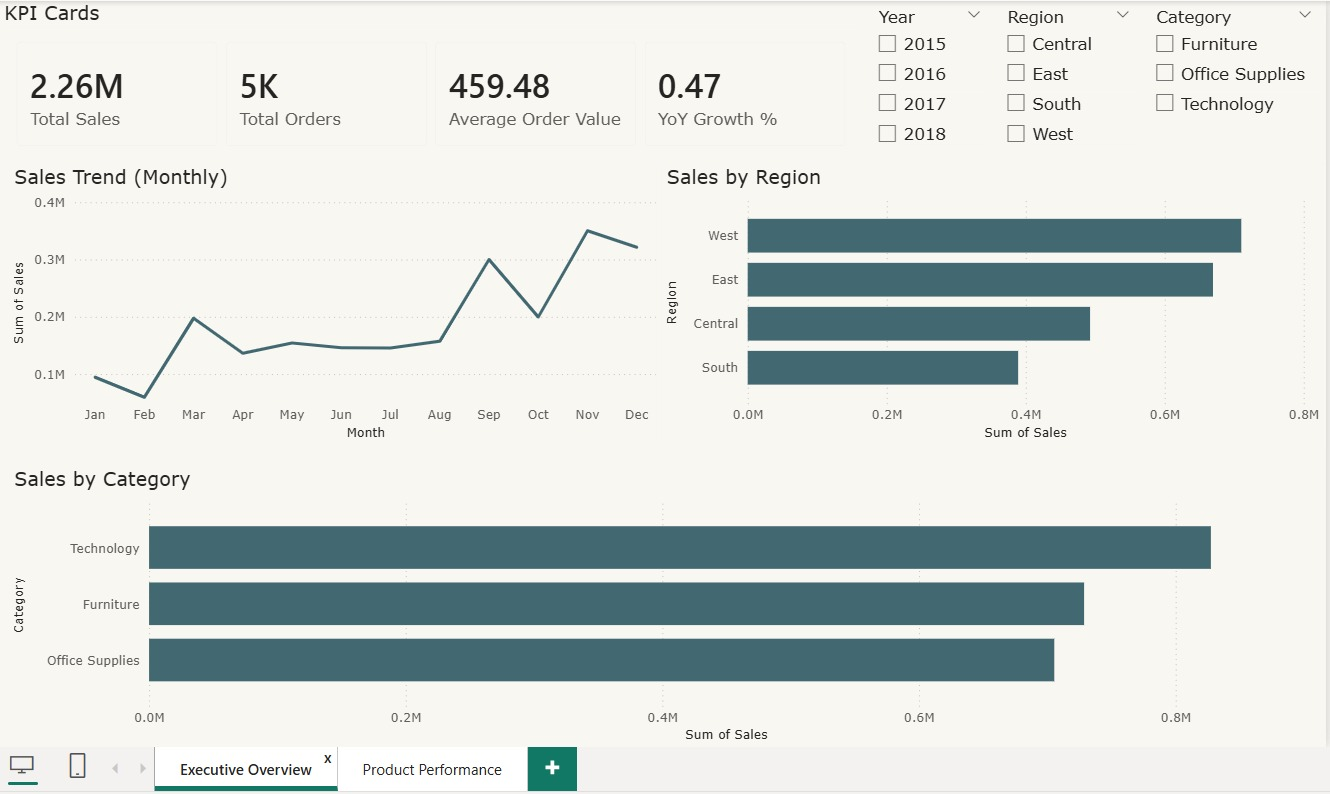

The dashboard page shown, as its layout file describes it:
{"tool":"powerbi","page":{"name":"Executive Overview","canvas":[1280,720],"ordinal":0},"visuals":[{"type":"cardVisual","title":"KPI Cards","fields":{"Data":["Fact_Orders.Total Sales","Fact_Orders.Total Orders","Fact_Orders.Average Order Value","Fact_Orders.YoY Growth %"]},"box":[0,0,836.3,157.9],"z":0},{"type":"lineChart","title":"Sales Trend (Monthly)","fields":{"Category":["Dim_Date.Month"],"Y":["Sum(Fact_Orders.Sales)"]},"box":[10,157.9,630,270.2],"z":1000},{"type":"barChart","title":"Sales by Region","fields":{"Category":["Dim_Region.Region"],"Y":["Sum(Fact_Orders.Sales)"]},"box":[640,157.9,640,270.2],"z":2000},{"type":"barChart","title":"Sales by Category","fields":{"Y":["Sum(Fact_Orders.Sales)"],"Category":["Fact_Orders.Category"]},"box":[10,449.4,1270,270.2],"z":3000},{"type":"slicer","fields":{"Values":["Dim_Date.Year"]},"box":[836.1,0,124.1,157.4],"z":4000},{"type":"slicer","fields":{"Values":["Dim_Region.Region"]},"box":[960.2,0,143.5,157.4],"z":5000},{"type":"slicer","fields":{"Values":["Fact_Orders.Category"]},"box":[1103.7,0,175.9,157.4],"z":6000}]}

Visuals, with their boxes on the page's 1280x720 design canvas (x1, y1, x2, y2). These are canvas units, not pixel positions in the 1330x794 screenshot, which may show the page scaled, cropped or inside an application window:
"KPI Cards" cardVisual: [0, 0, 836, 158]
"Sales Trend (Monthly)" lineChart: [10, 158, 640, 428]
"Sales by Region" barChart: [640, 158, 1280, 428]
"Sales by Category" barChart: [10, 449, 1280, 720]
slicer - Dim_Date.Year: [836, 0, 960, 157]
slicer - Dim_Region.Region: [960, 0, 1104, 157]
slicer - Fact_Orders.Category: [1104, 0, 1280, 157]
